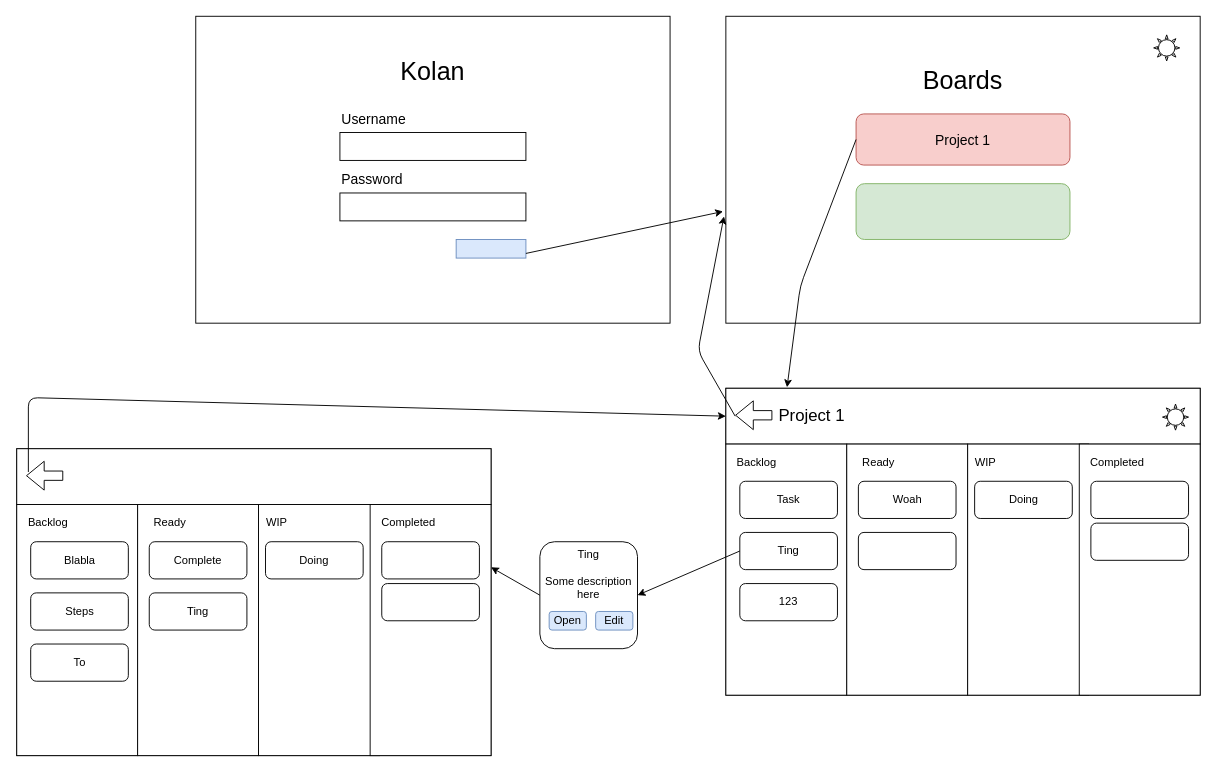
This 1216x772 diagram has some shape labels left out. The centre of each missing label's shape, as x and y in pixels:
Login: the point at 490,248
Project 1 /Ting: the point at 253,476
Project 2: the point at 962,211
